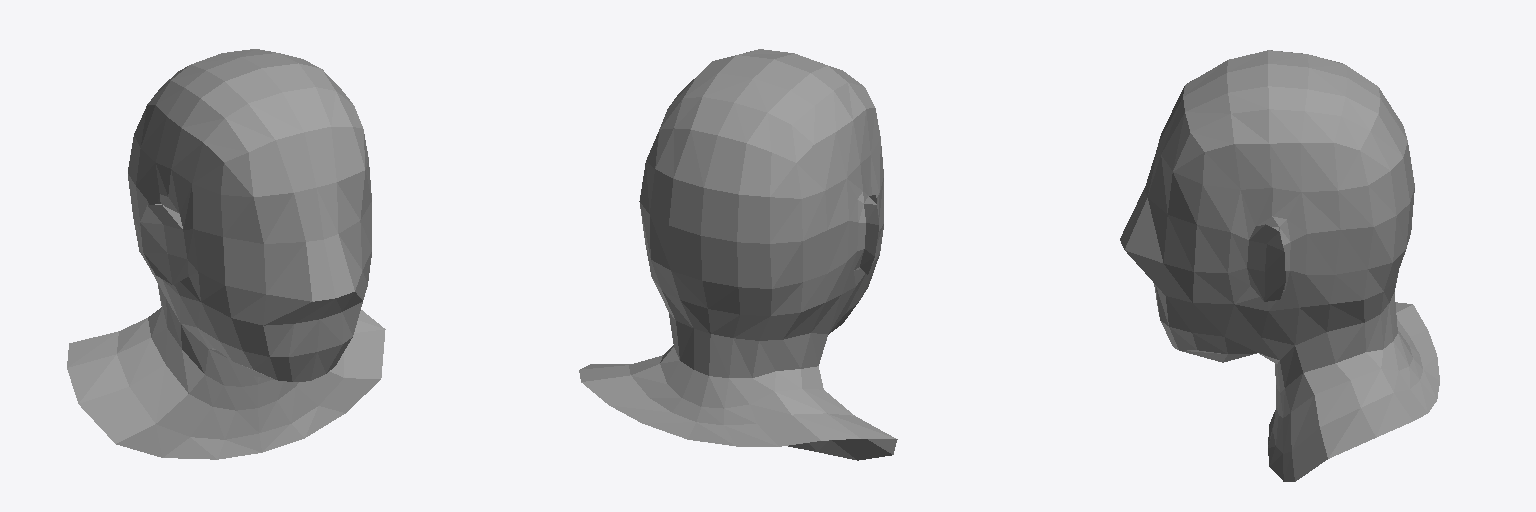
The model's file is Head.obj.
3 renders of one model, left to right at view 1: azimuth 30°, elevation 25°; view 2: azimuth 150°, elevation 25°; view 3: azimuth 270°, elevation 25°, orthographic.
Visible parts, largest first — view 1: Head_Cube; view 2: Head_Cube; view 3: Head_Cube.
Part boxes in pixels (left/top/right/bottom): Head_Cube: left=67, top=49, right=385, bottom=459; Head_Cube: left=579, top=49, right=897, bottom=460; Head_Cube: left=1120, top=50, right=1439, bottom=481.
Bounding box in the file's own units: 4.02 × 4.81 × 3.63.